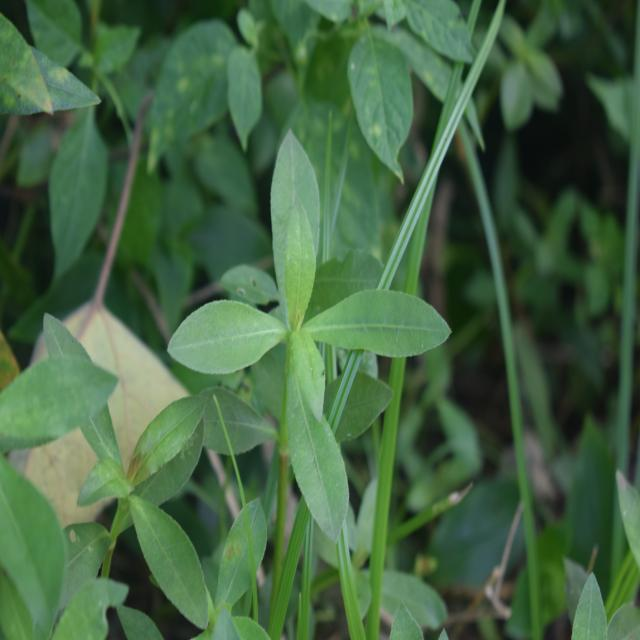Alligatorweed: (169, 128, 417, 534)
